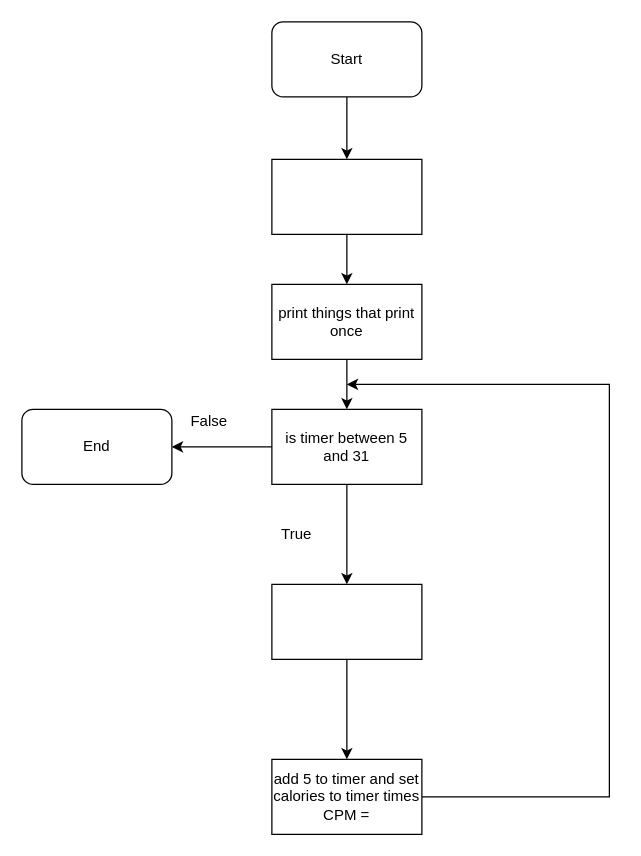
Some shapes in this 641 by 856 pixel diagram are drawn without their labels. The shapes that lost their labels are listed below. From the top down, each one's centre as x and y in pixels, then its label:
point 346,196: set timer to 10 and CPM to 4.2
point 346,621: print time and calories
